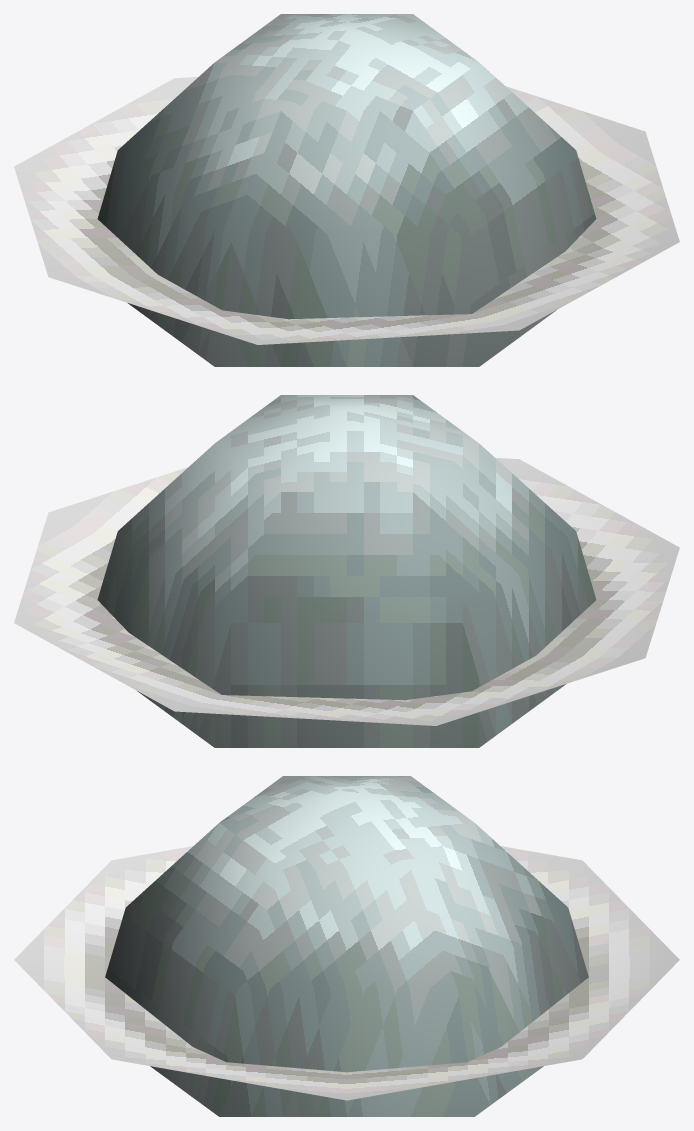
3 views of the same model, one above another, from view 1: azimuth 30°, elevation 25°; view 2: azimuth 150°, elevation 25°; view 3: azimuth 270°, elevation 25° (orthographic). The views are drawn at different scales.
Visible parts, largest first — view 1: 2757maindish_n; view 2: 2757maindish_n; view 3: 2757maindish_n.
Part boxes in pixels (left/top/right/bottom): 2757maindish_n: left=14, top=14, right=679, bottom=366; 2757maindish_n: left=14, top=395, right=679, bottom=747; 2757maindish_n: left=14, top=776, right=679, bottom=1116.
Size of the model in its own units: 1.33 by 0.5104 by 1.33.
2 materials, 2 textured.
